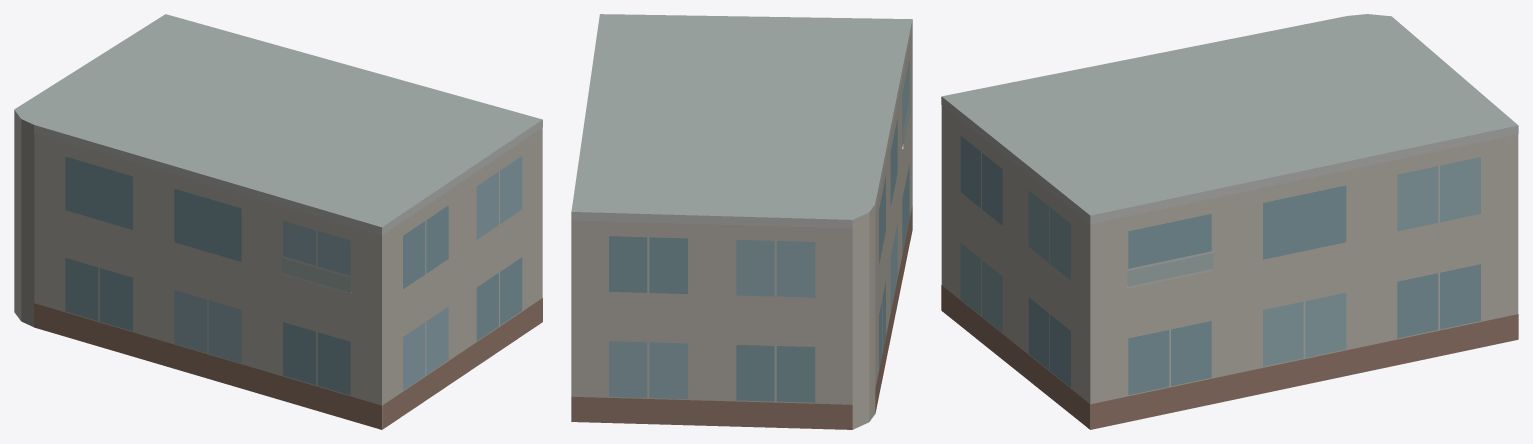
Rendered from survey-upis-32740605.glb.
3 views of the same model, side by side, from view 1: azimuth 30°, elevation 25°; view 2: azimuth 150°, elevation 25°; view 3: azimuth 270°, elevation 25° (orthographic). The views are drawn at different scales.
Visible parts, largest first — view 1: survey-upis-32740605.tmp; view 2: survey-upis-32740605.tmp; view 3: survey-upis-32740605.tmp.
Part boxes in pixels (<box>): survey-upis-32740605.tmp: <box>14,14,542,429</box>; survey-upis-32740605.tmp: <box>571,14,912,429</box>; survey-upis-32740605.tmp: <box>941,14,1518,429</box>.
Size of the model in its own units: 12.32 by 6.1 by 14.9.
